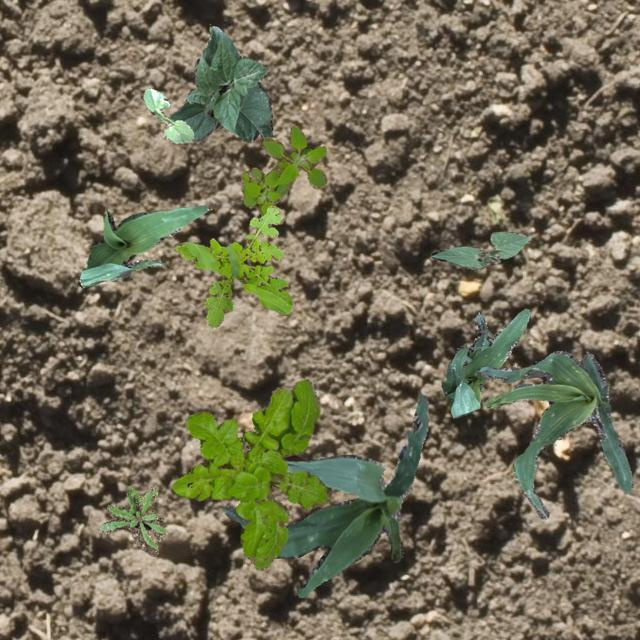crop: (222, 389, 426, 596), (476, 350, 632, 518), (170, 25, 272, 142), (76, 205, 208, 286), (440, 308, 530, 418), (430, 230, 530, 268), (142, 86, 194, 142)
weed: (172, 378, 330, 570), (175, 206, 292, 326), (240, 124, 326, 216), (100, 486, 166, 554)
